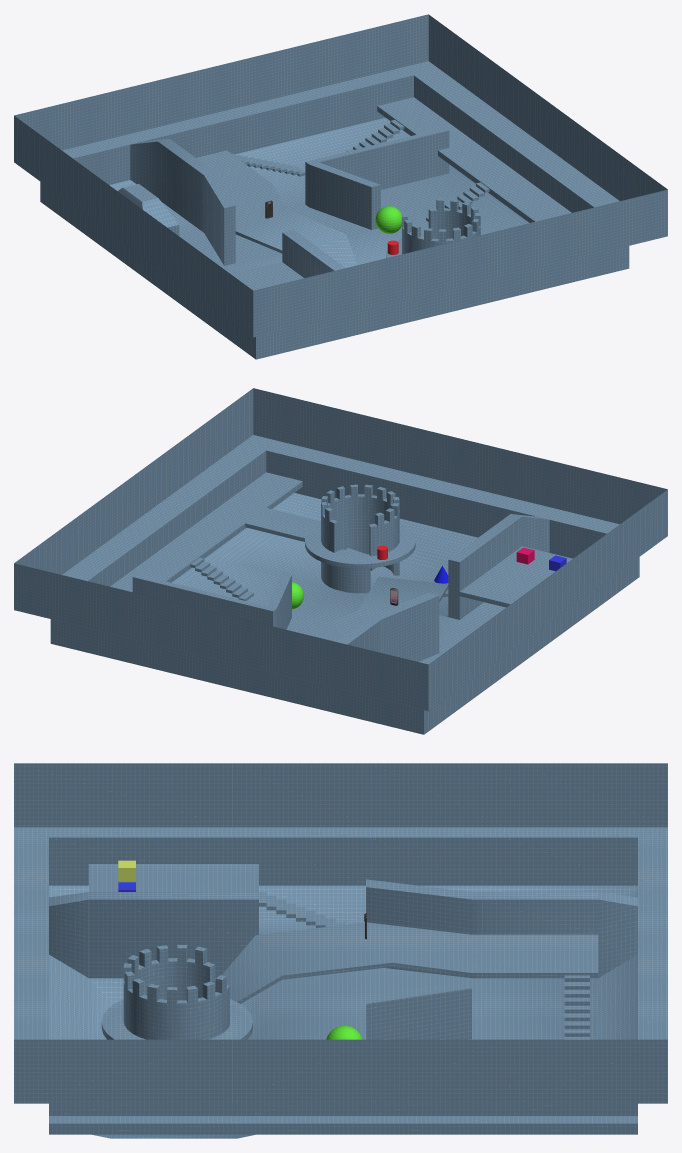
File: Snap World 1.glb
The picture shows the model from 3 angles, top to bottom: view 1: azimuth 30°, elevation 25°; view 2: azimuth 150°, elevation 25°; view 3: azimuth 270°, elevation 25°; orthographic projection. The views are drawn at different scales.
Parts seen in each view (by area): view 1: Cube.004, interactive_Sphere; view 2: Cube.004; view 3: Cube.004.
Boxes of the visible parts, bbox=[...] form: Cube.004: bbox=[14, 14, 667, 359]; interactive_Sphere: bbox=[375, 206, 401, 233]; Cube.004: bbox=[14, 388, 667, 734]; Cube.004: bbox=[14, 763, 667, 1138].
Size of the model in its own units: 34.36 by 8.6 by 34.36.
9 materials, 2 textured.
